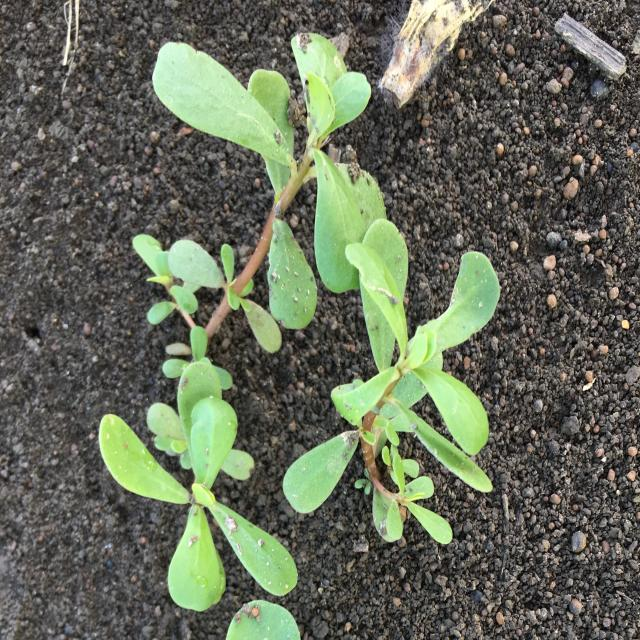Purslane: (99, 32, 387, 612), (283, 218, 500, 546)
